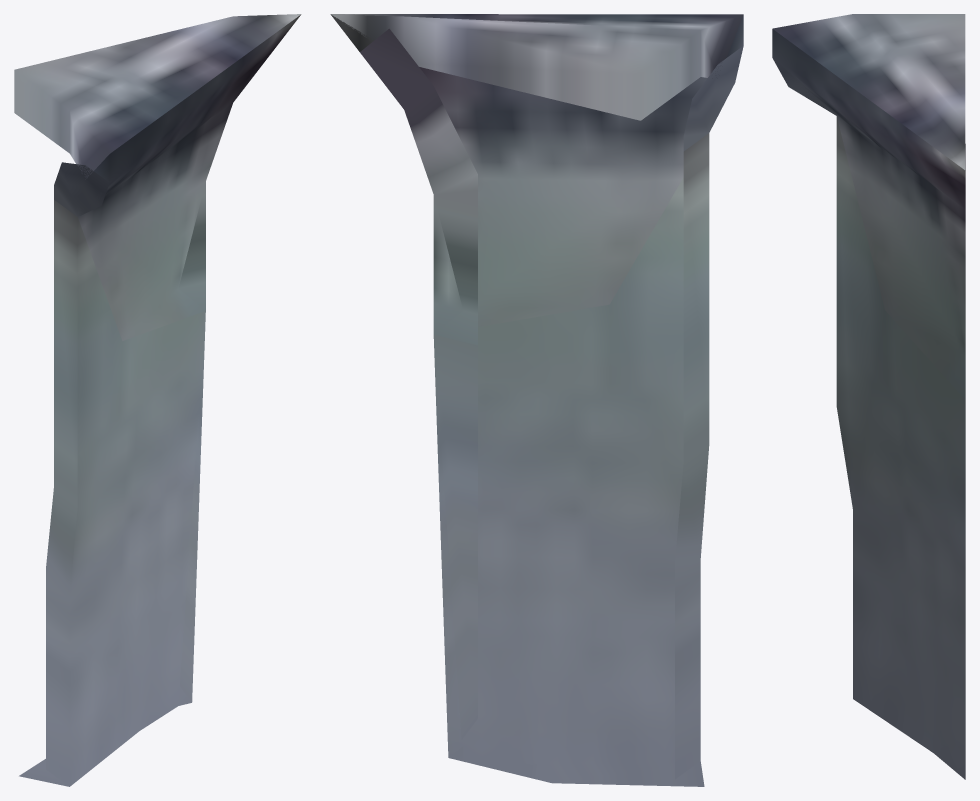
3 views of the same model, side by side, from view 1: azimuth 30°, elevation 25°; view 2: azimuth 150°, elevation 25°; view 3: azimuth 270°, elevation 25° (orthographic). The views are drawn at different scales.
Parts seen in each view (by area): view 1: 30436272704361636705_0; view 2: 30436272704361636705_0; view 3: 30436272704361636705_0.
Part boxes in pixels (<box>): 30436272704361636705_0: <box>14,14,301,786</box>; 30436272704361636705_0: <box>330,14,743,786</box>; 30436272704361636705_0: <box>772,14,965,779</box>.
Bounding box in the file's own units: 3.53 × 7.24 × 1.85.
Materials: 1 (1 with a texture image).
